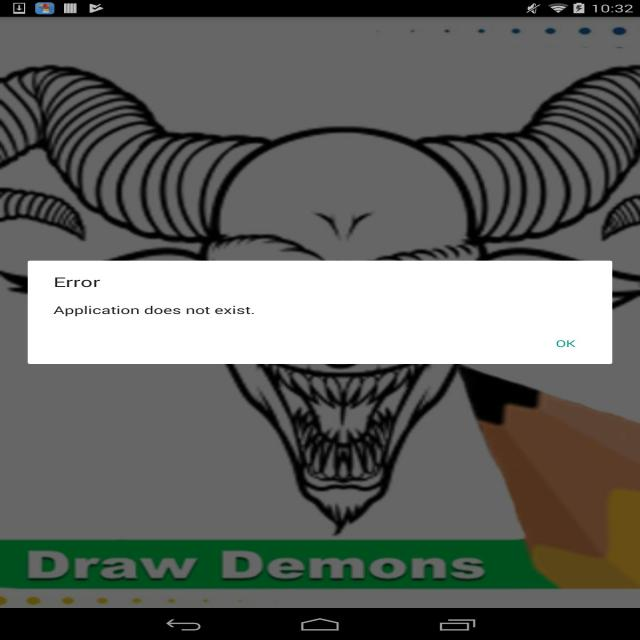button: (547, 334, 587, 354)
heading: (51, 271, 100, 291)
image: (1, 19, 640, 605)
text: (48, 302, 256, 319)
